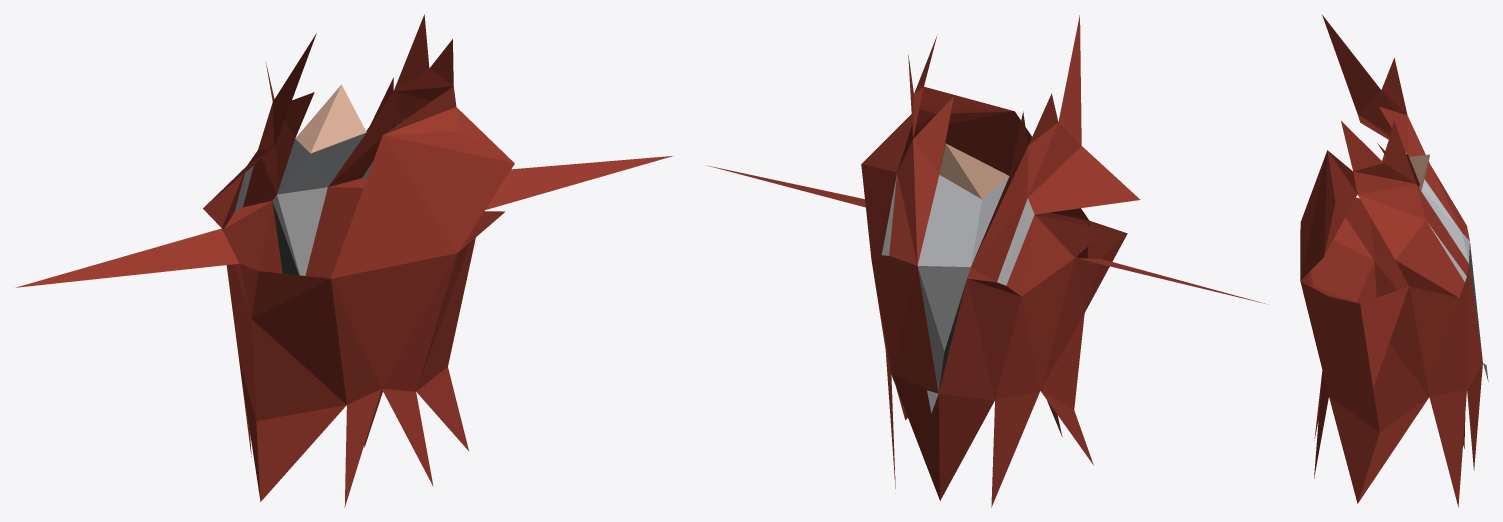
Rendered from Torso_Lo.obj.
3 renders of one model, left to right at view 1: azimuth 30°, elevation 25°; view 2: azimuth 150°, elevation 25°; view 3: azimuth 270°, elevation 25°, orthographic. The views are drawn at different scales.
Size of the model in its own units: 1.08 by 0.8053 by 0.3119.
Materials: 1 (1 with a texture image).
